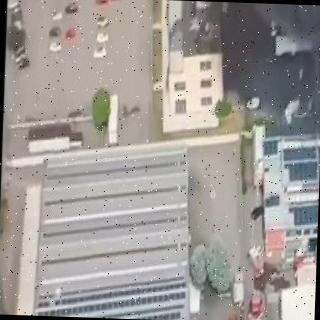smoke: (235, 2, 320, 97)
